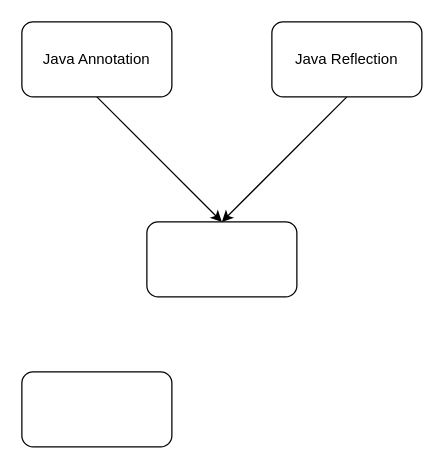
Image size: 444x469. Some labels were removed from this diagram. Each missing label, with the centre of its shape:
Annotation + Reflection: the point at 221,259
Java Reflection API: the point at 96,409
